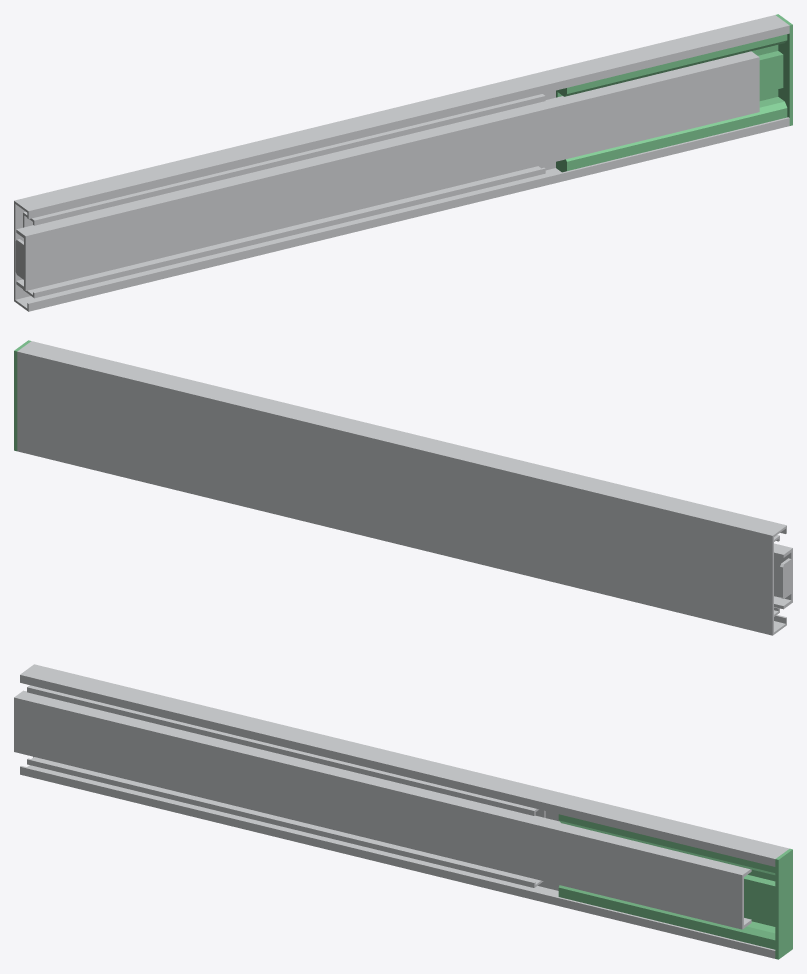
3 views of the same model, one above another, from view 1: azimuth 30°, elevation 25°; view 2: azimuth 150°, elevation 25°; view 3: azimuth 330°, elevation 25° (orthographic).
Visible parts, largest first — view 1: 5af01c0bf792; view 2: 5af01c0bf792; view 3: 5af01c0bf792.
Part boxes in pixels (x1,y1,x2,y2): 5af01c0bf792: [14, 14, 792, 311]; 5af01c0bf792: [14, 340, 792, 635]; 5af01c0bf792: [14, 664, 792, 959].
Size of the model in its own units: 352 by 44 by 12.7.
